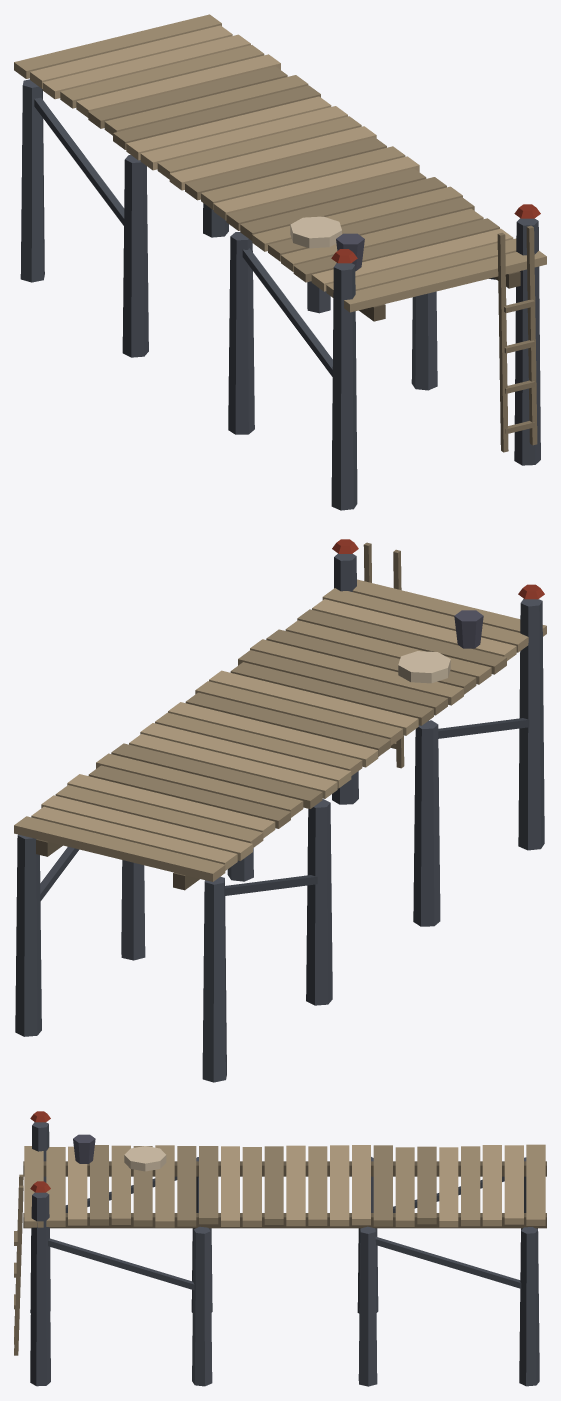
File: dock.glb
3 views of the same model, one above another, from view 1: azimuth 30°, elevation 25°; view 2: azimuth 150°, elevation 25°; view 3: azimuth 270°, elevation 25° (orthographic). The views are drawn at different scales.
Parts seen in each view (by area): view 1: slate_d25, driftwood_d16, driftwood_d8, driftwood_d24, driftwood_d30, slate_d35, driftwood_l25, ink_l25, coal_d20; view 2: slate_d25, driftwood_d16, driftwood_d8, driftwood_d24, slate_d35, driftwood_l25, ink_l25, driftwood_d30; view 3: slate_d25, driftwood_d16, driftwood_d8, driftwood_d24, driftwood_d45, slate_d35, driftwood_d30, driftwood_l25, ink_l25, coal_d20.
Part boxes in pixels (left/top/right/bottom): slate_d25: left=20, top=79, right=540, bottom=510; driftwood_d16: left=14, top=14, right=546, bottom=312; driftwood_d8: left=30, top=25, right=513, bottom=291; driftwood_d24: left=88, top=66, right=499, bottom=282; driftwood_d30: left=497, top=225, right=537, bottom=452; slate_d35: left=34, top=97, right=496, bottom=376; driftwood_l25: left=290, top=216, right=341, bottom=248; ink_l25: left=336, top=233, right=364, bottom=271; coal_d20: left=331, top=204, right=540, bottom=263; slate_d25: left=15, top=553, right=544, bottom=1082; driftwood_d16: left=14, top=579, right=546, bottom=881; driftwood_d8: left=31, top=599, right=516, bottom=870; driftwood_d24: left=88, top=609, right=506, bottom=828; slate_d35: left=40, top=718, right=529, bottom=900; driftwood_l25: left=398, top=651, right=450, bottom=683; ink_l25: left=454, top=610, right=483, bottom=648; driftwood_d30: left=363, top=542, right=404, bottom=768; slate_d25: left=30, top=1122, right=539, bottom=1386; driftwood_d16: left=24, top=1144, right=545, bottom=1227; driftwood_d8: left=68, top=1145, right=523, bottom=1227; driftwood_d24: left=90, top=1145, right=436, bottom=1226; driftwood_d45: left=23, top=1161, right=546, bottom=1228; slate_d35: left=48, top=1176, right=521, bottom=1290; driftwood_d30: left=14, top=1174, right=23, bottom=1355; driftwood_l25: left=124, top=1146, right=166, bottom=1171; ink_l25: left=73, top=1134, right=95, bottom=1163; coal_d20: left=30, top=1111, right=50, bottom=1192.
Size of the model in its own units: 2.14 by 2.5 by 6.11.
